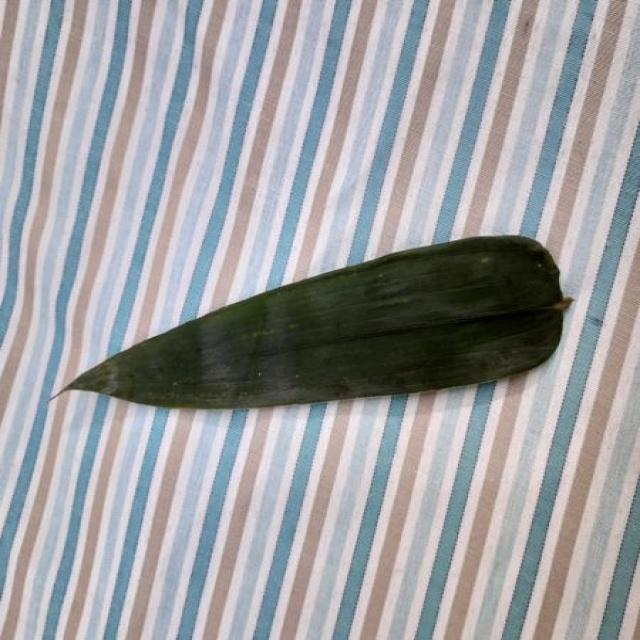Bamboo: (60, 235, 570, 408)
